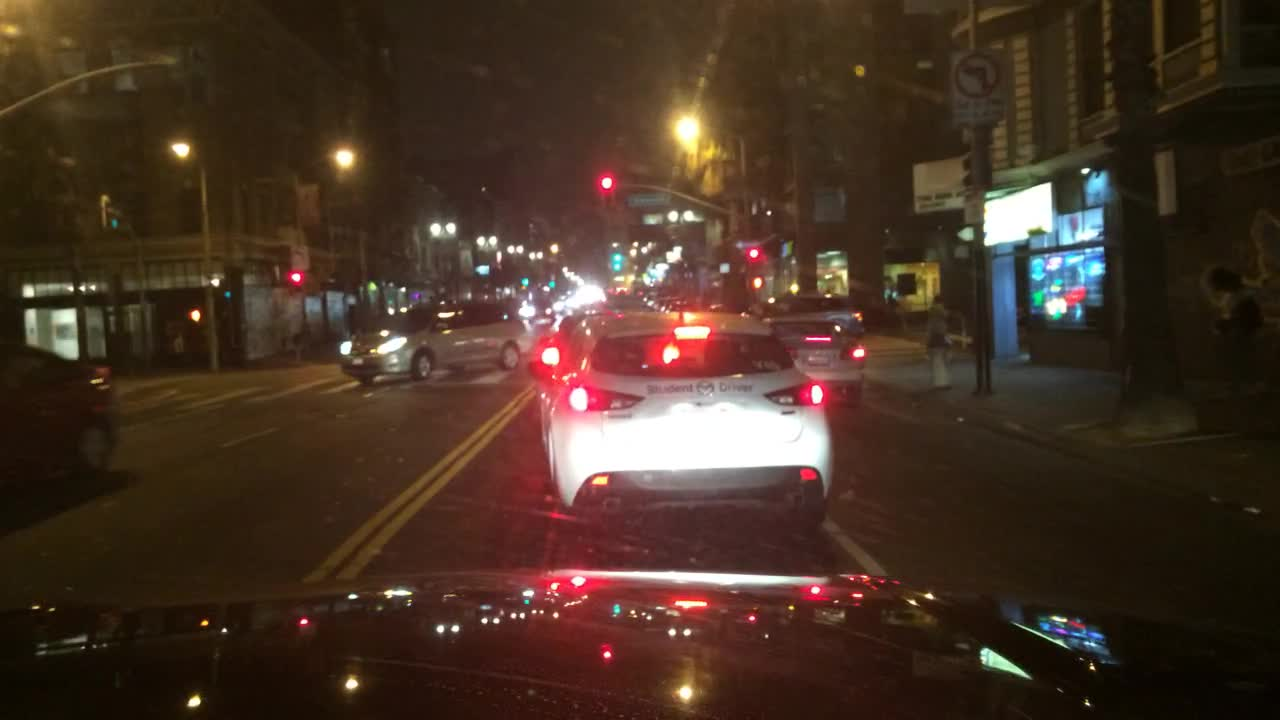car: (536, 312, 833, 535), (0, 339, 114, 488), (336, 299, 531, 385), (764, 316, 864, 396), (535, 304, 611, 368), (769, 291, 865, 333), (523, 297, 555, 326), (501, 293, 526, 314), (651, 293, 683, 309), (643, 293, 668, 309), (638, 288, 658, 305)
person: (1205, 266, 1260, 400), (924, 293, 953, 391)
traffic light: (185, 42, 214, 106), (98, 192, 120, 234), (597, 172, 614, 211), (287, 266, 303, 287), (747, 273, 764, 292), (744, 243, 761, 261), (184, 305, 202, 320)
traffic sign: (948, 49, 1002, 130), (627, 192, 671, 207)
